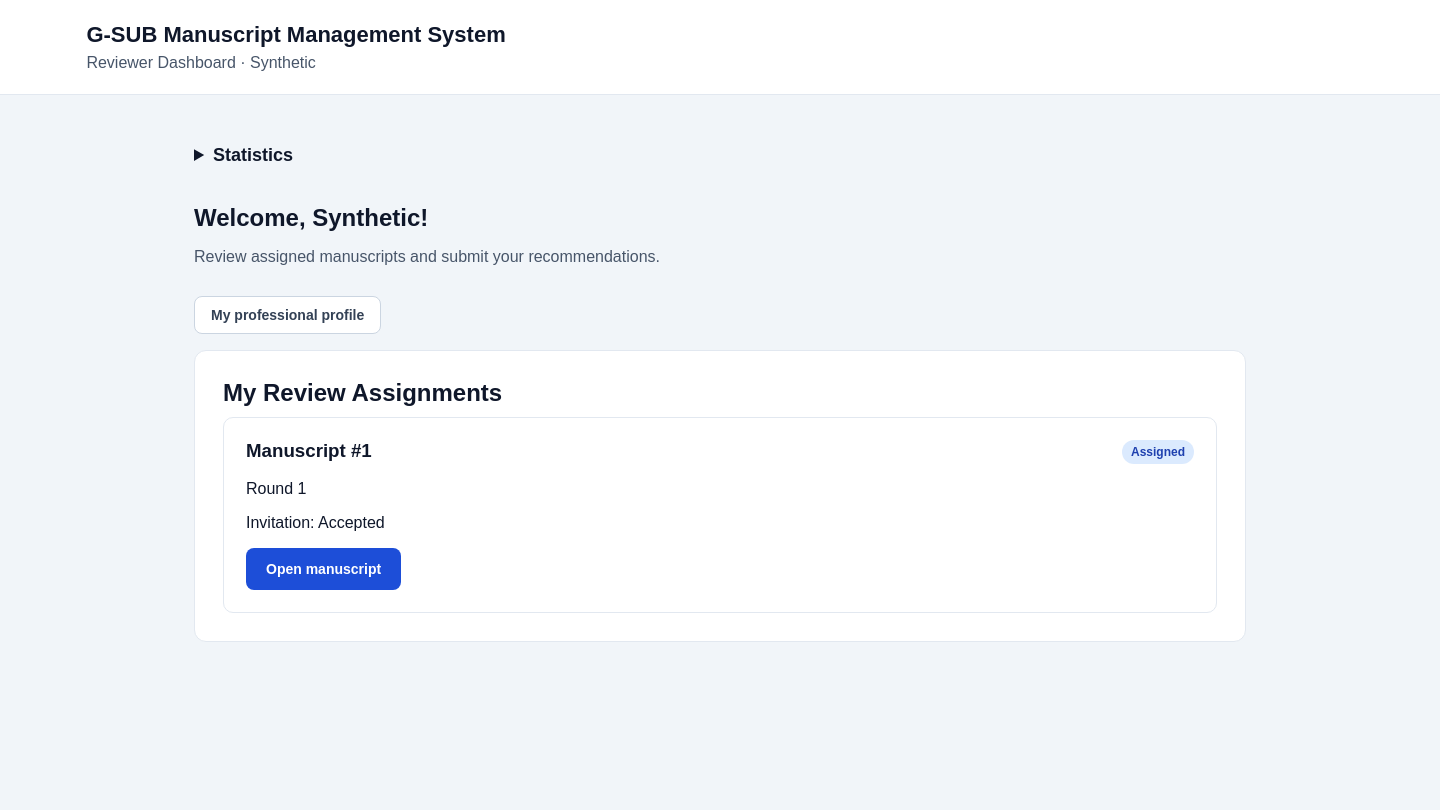
links only an eligible assignment task to its own review form
Click the button "Open manuscript".
click(324, 569)  # box [246,548,401,590]
(page scrolled)
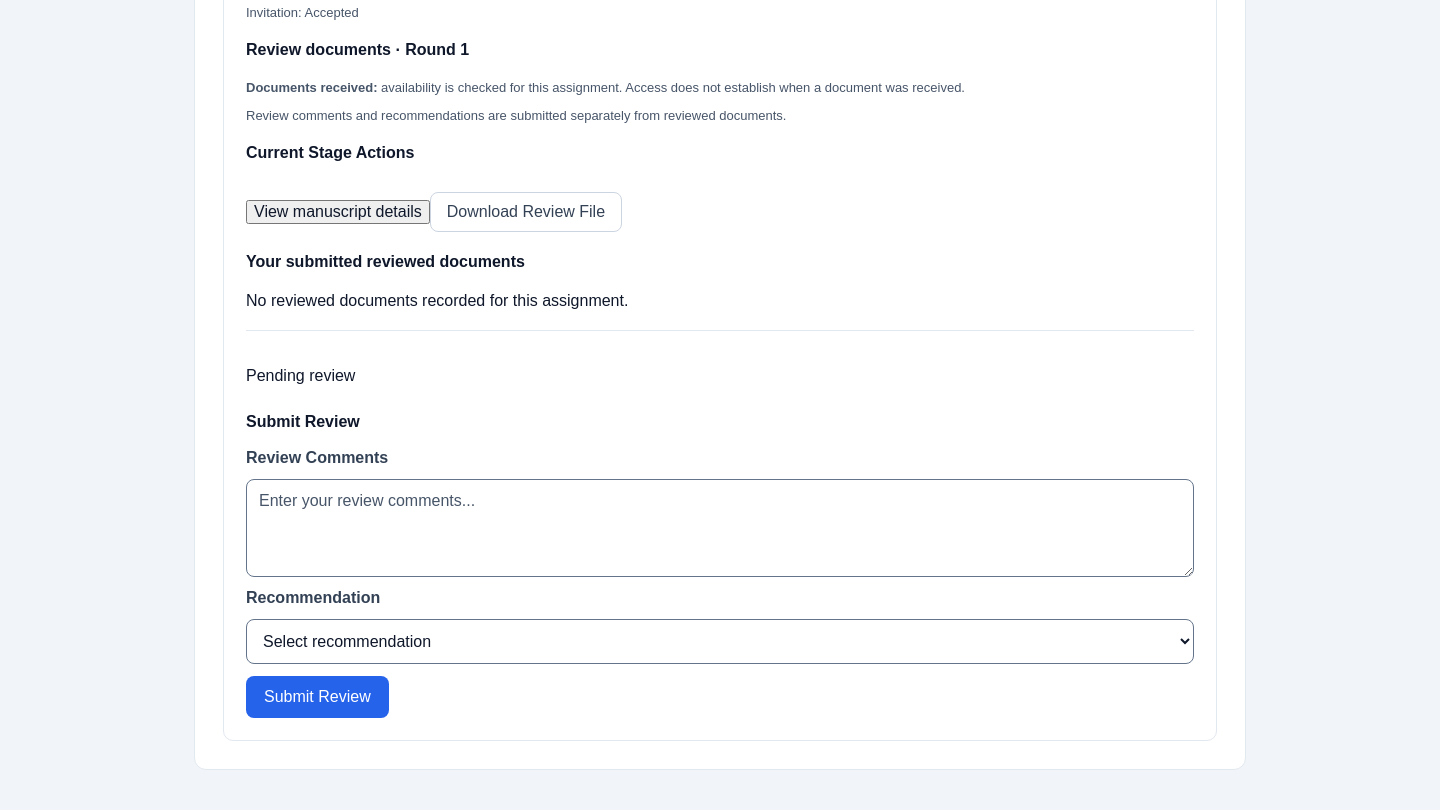
Now the element "Submit Review" is shown, box [246,330,1194,718]
